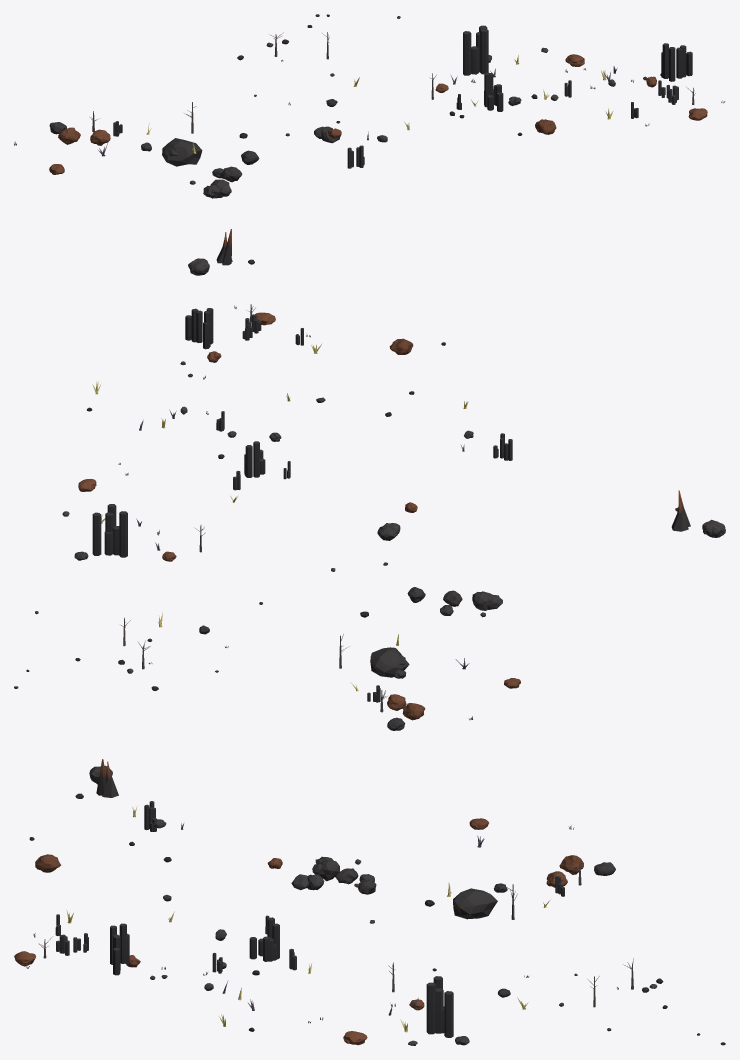
The model's file is ash_land_scatter_c17_27.glb.
The picture shows the model from 3 angles, top to bottom: view 1: azimuth 30°, elevation 25°; view 2: azimuth 150°, elevation 25°; view 3: azimuth 270°, elevation 25°; orthographic projection. The views are drawn at different scales.
Visible parts, largest first — view 1: ash_land_scatter_c17_27; view 2: ash_land_scatter_c17_27; view 3: ash_land_scatter_c17_27.
Boxes of the visible parts, <box> form: ash_land_scatter_c17_27: <box>14,14,725,275</box>; ash_land_scatter_c17_27: <box>14,304,725,730</box>; ash_land_scatter_c17_27: <box>14,759,725,1045</box>.
Size of the model in its own units: 150 by 40.29 by 149.
